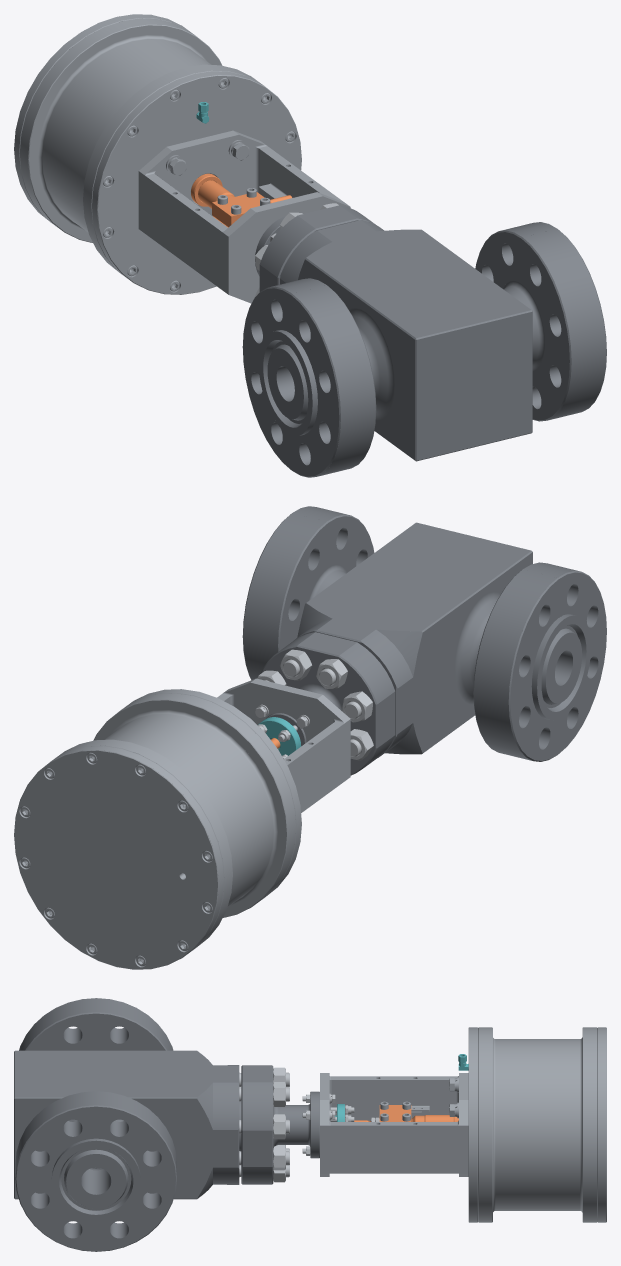
File: control-valve-shot-ready.glb
The picture shows the model from 3 angles, top to bottom: view 1: azimuth 30°, elevation 25°; view 2: azimuth 150°, elevation 25°; view 3: azimuth 270°, elevation 25°; orthographic projection. The views are drawn at different scales.
Visible parts, largest first — view 1: VALVE_BODY_BONNET, PNEUMATIC_ACTUATOR, STEM_CASCADE_PLUG; view 2: VALVE_BODY_BONNET, PNEUMATIC_ACTUATOR, PRODUCTION_DETAILS, SEALS_SUPPORT; view 3: VALVE_BODY_BONNET, PNEUMATIC_ACTUATOR, PRODUCTION_DETAILS, STEM_CASCADE_PLUG.
Boxes of the visible parts, x1,y1,x2,y2 form: VALVE_BODY_BONNET: [242, 205, 606, 477]; PNEUMATIC_ACTUATOR: [14, 14, 350, 303]; STEM_CASCADE_PLUG: [191, 173, 292, 227]; VALVE_BODY_BONNET: [242, 506, 606, 775]; PNEUMATIC_ACTUATOR: [14, 678, 350, 969]; PRODUCTION_DETAILS: [255, 649, 373, 760]; SEALS_SUPPORT: [258, 717, 301, 755]; VALVE_BODY_BONNET: [14, 998, 330, 1251]; PNEUMATIC_ACTUATOR: [320, 1027, 606, 1222]; PRODUCTION_DETAILS: [239, 1067, 379, 1182]; STEM_CASCADE_PLUG: [354, 1105, 458, 1121].
Size of the model in its own units: 501 by 369 by 1118.
